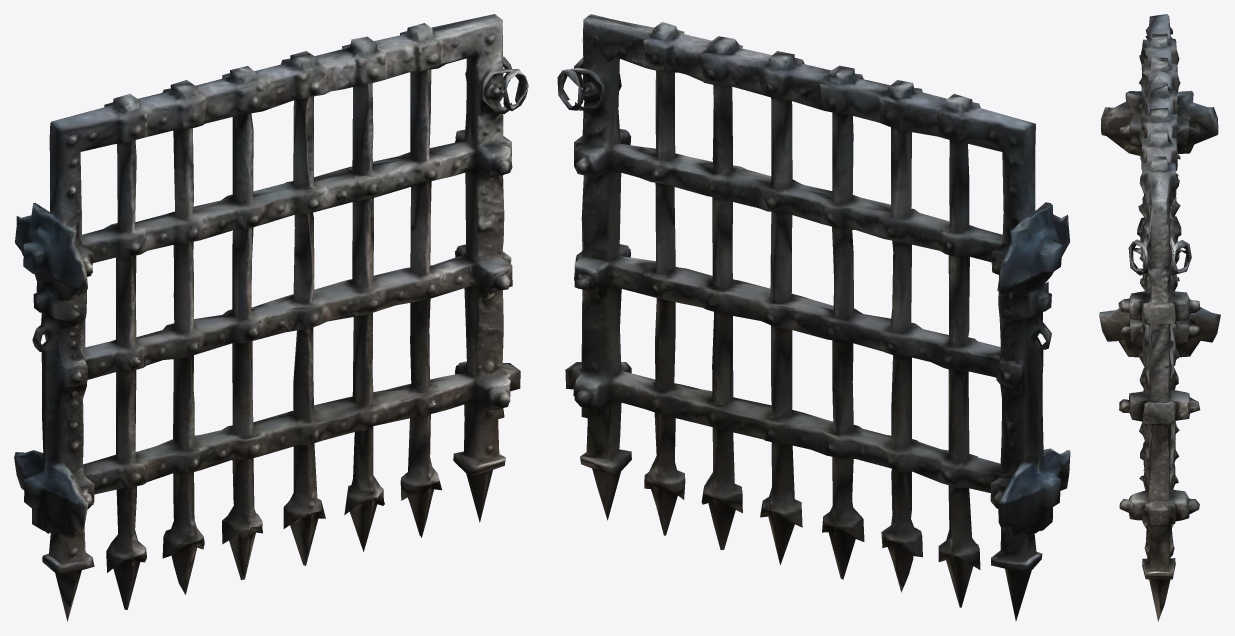
The model's file is portcullis.glb.
The picture shows the model from 3 angles, left to right: view 1: azimuth 30°, elevation 25°; view 2: azimuth 150°, elevation 25°; view 3: azimuth 270°, elevation 25°; orthographic projection. The views are drawn at different scales.
Visible parts, largest first — view 1: tripo_node_22dfd1ec-b4c6-4782-9419-67becea6dc9f; view 2: tripo_node_22dfd1ec-b4c6-4782-9419-67becea6dc9f; view 3: tripo_node_22dfd1ec-b4c6-4782-9419-67becea6dc9f.
Part boxes in pixels (bbox=[...]): tripo_node_22dfd1ec-b4c6-4782-9419-67becea6dc9f: bbox=[14, 14, 528, 621]; tripo_node_22dfd1ec-b4c6-4782-9419-67becea6dc9f: bbox=[557, 14, 1070, 620]; tripo_node_22dfd1ec-b4c6-4782-9419-67becea6dc9f: bbox=[1099, 14, 1220, 621].
Size of the model in its own units: 0.9992 by 0.9889 by 0.249.
Materials: 1 (1 with a texture image).
